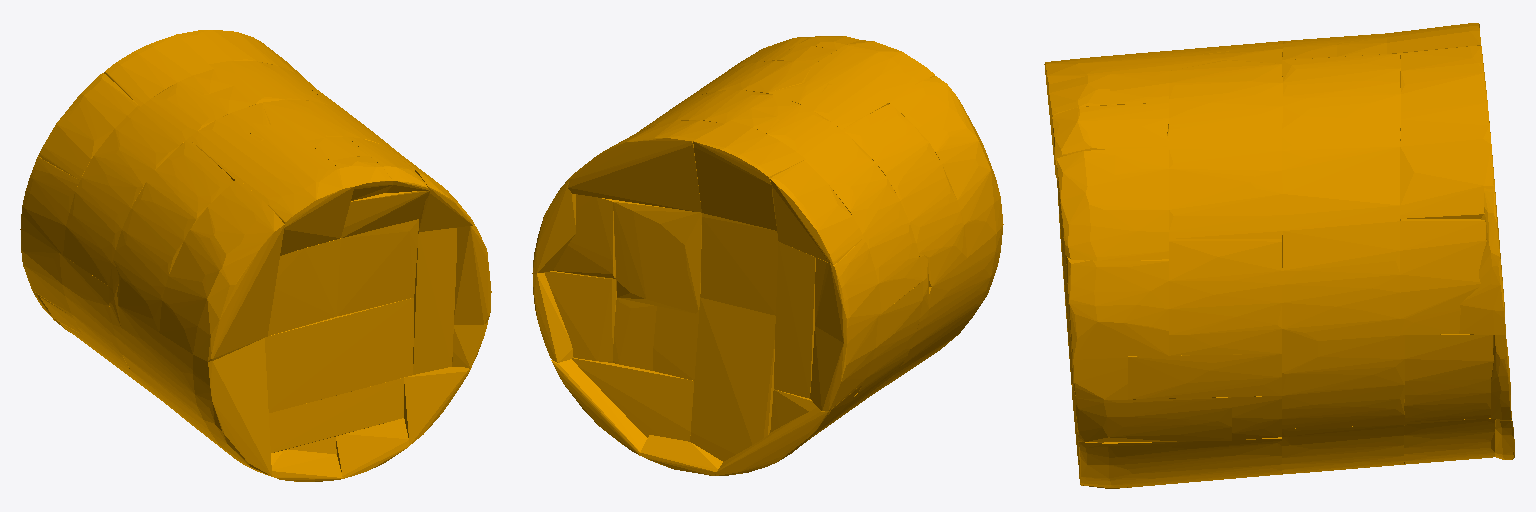
robot.urdf — can-kidney:
<?xml version="1.0" ?>
<robot name="can-kidney">
  <link name="baseLink">
    <contact>
      <lateral_friction value="1.0"/>
      <inertia_scaling value="3.0"/>
    </contact>
    <inertial>
      <origin rpy="0 0 0" xyz="0.000 0.000 0.000"/>
       <mass value=".1"/>
       <inertia ixx="1" ixy="0.0" ixz="0.0" iyy="1" iyz="0.0" izz="1"/>
    </inertial>
    <visual>
      <origin rpy="0 0 0" xyz="0 0 0"/>
      <geometry>
        <mesh filename="can/can-kidney_beans.obj" scale="1.0 1.0 1.0"/>
      </geometry>
    </visual>
    <collision>
      <origin rpy="0 0 0" xyz="0 0 0"/>
      <geometry>
        <mesh filename="../collision/can/can-kidney_beans.obj" scale="1.0 1.0 1.0"/>
      </geometry>
    </collision>
  </link>
</robot>
        

--- Facts derived from the render (not from the file) ---
Views: 3 orthographic renders of the robot side by side, from view 1: azimuth 30°, elevation 25°; view 2: azimuth 150°, elevation 25°; view 3: azimuth 270°, elevation 25°.
Model can-kidney with 1 links and 0 joints (none), rooted at baseLink, posed every joint at zero.
Visible links, largest first — view 1: baseLink; view 2: baseLink; view 3: baseLink.
Boxes of the visible links, x1,y1,x2,y2 form: baseLink: (20, 30, 491, 481); baseLink: (532, 36, 1003, 475); baseLink: (1044, 23, 1514, 488).
Bounding box of the posed robot: 0.0877 × 0.0919 × 0.0902 m (x, y, z).
Meshes: 1 distinct files referenced, 1 mesh visuals loaded (1 OBJ).